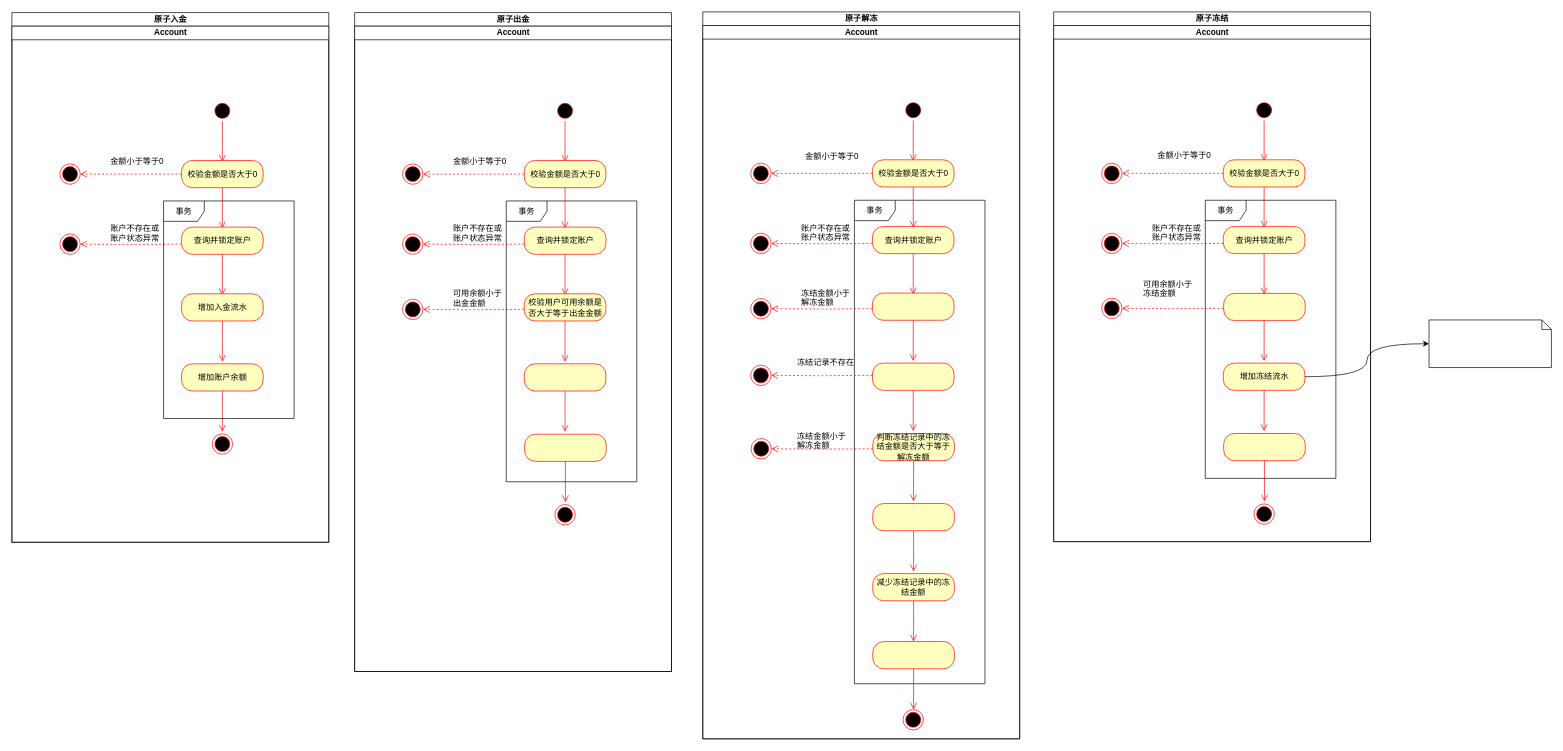
This 1563x751 diagram has some shape labels left out. Each missing label, with the centre of its shape:
"冻结记录存在在之前的冻结金额上添加金额 冻结记录存在则新插入冻结记录" belongs at pixel 1489 343.
"减少账户余额" belongs at pixel 565 447.
"减少账户冻结金额" belongs at pixel 913 655.
"增加账户冻结金额" belongs at pixel 1264 447.
"校验用户冻结金额是否大于解冻金额" belongs at pixel 913 306.
"校验用户可用余额是否大于等于冻结金额" belongs at pixel 1264 307.
"根据冻结类型和账户编号查询冻结记录" belongs at pixel 913 376.
"记录出金流水" belongs at pixel 565 377.
"记录解冻流水" belongs at pixel 913 517.
